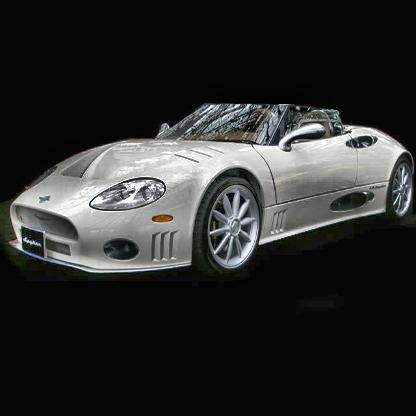Spyker C8 Convertible 2009: (7, 100, 412, 286)
